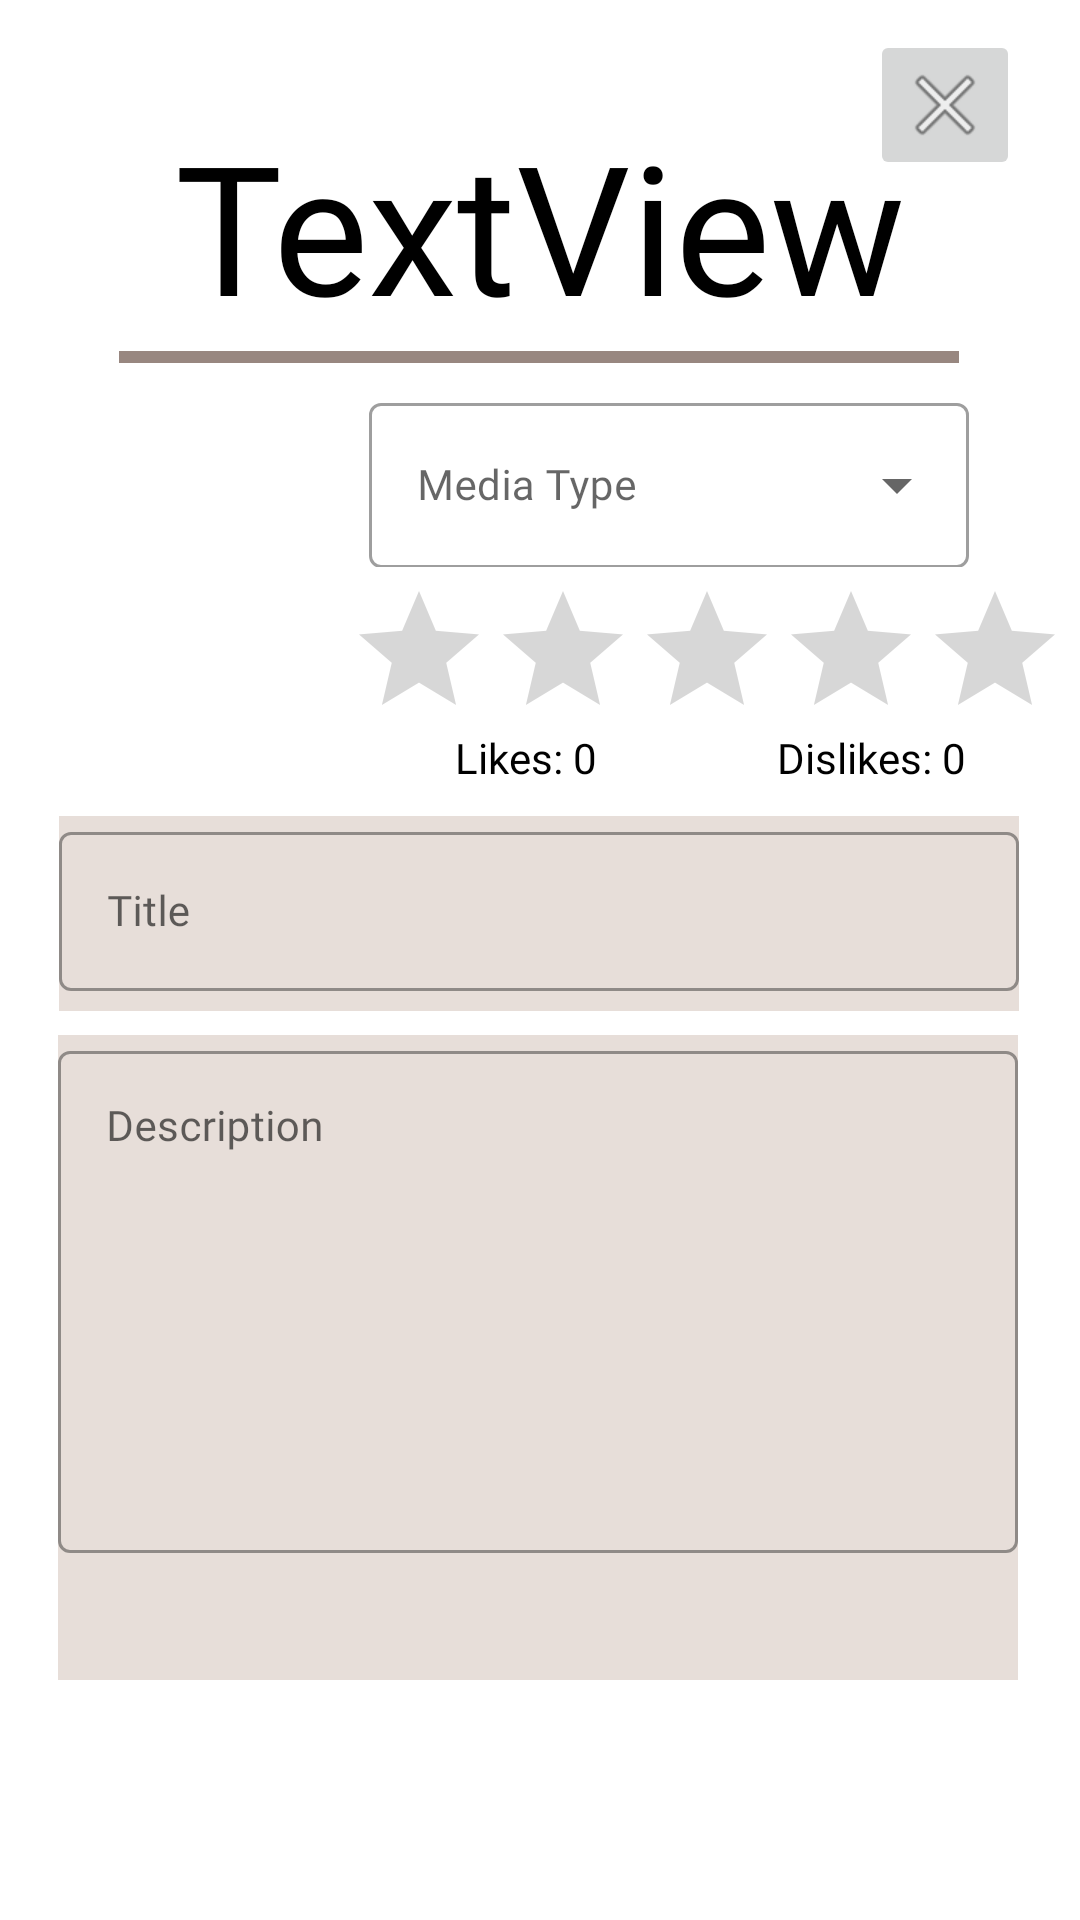

Screen size 1080 x 1920. Icon name, then its center in pixels as [x,y]:
close clear cancel: [945,105]
